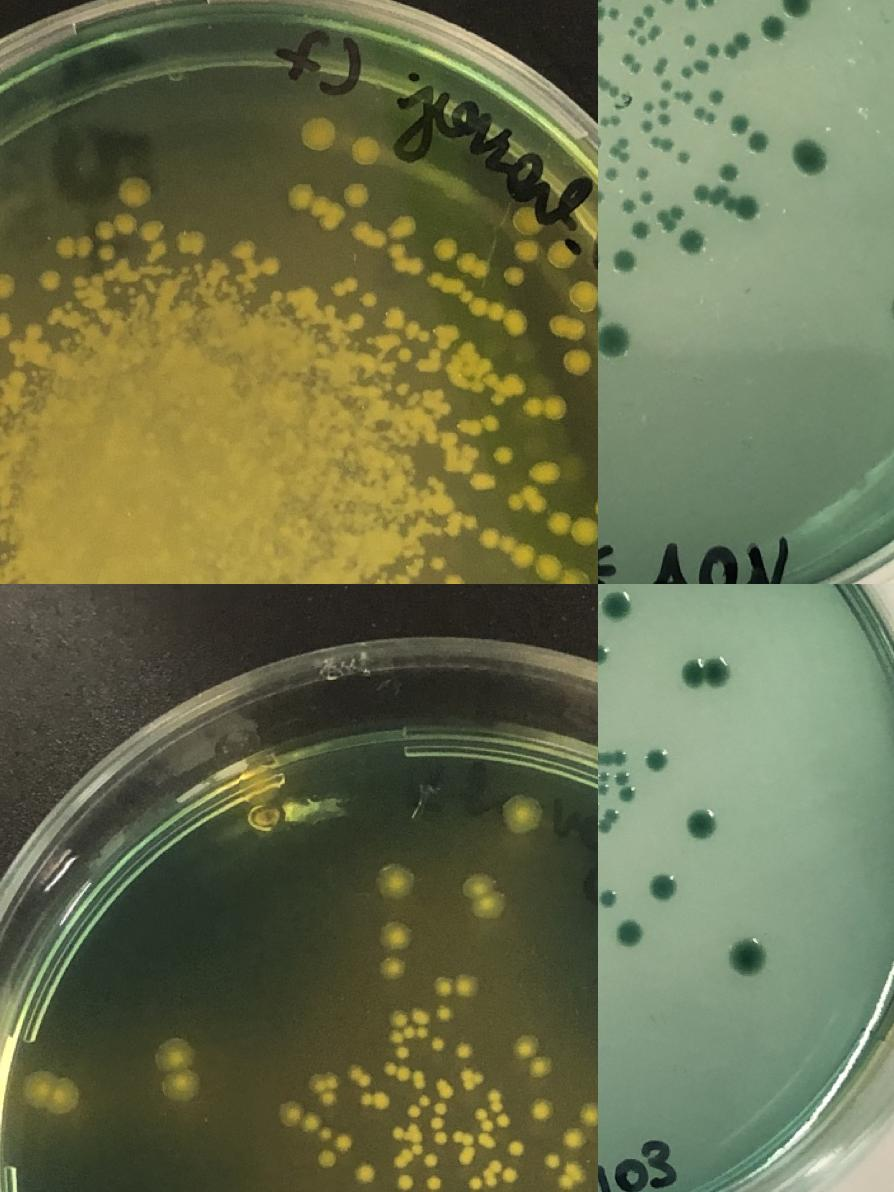pddamselae: (694, 185, 761, 220), (682, 654, 734, 691), (624, 4, 657, 46), (792, 140, 828, 177), (730, 938, 766, 974), (644, 868, 680, 904), (684, 806, 720, 842), (598, 589, 634, 625), (598, 322, 631, 359), (615, 920, 643, 948), (644, 746, 672, 774), (655, 206, 684, 233), (780, 0, 816, 20), (611, 249, 637, 275), (679, 229, 705, 255), (724, 33, 750, 59), (761, 16, 787, 42), (615, 770, 636, 802), (598, 750, 628, 772), (680, 58, 709, 80), (608, 136, 632, 162), (598, 72, 621, 98), (650, 136, 676, 154), (694, 105, 716, 125), (622, 52, 642, 74), (598, 3, 621, 20), (598, 769, 612, 795), (652, 56, 670, 76), (599, 890, 618, 908), (598, 114, 621, 128), (634, 222, 650, 238), (720, 164, 736, 180), (676, 150, 692, 166), (732, 116, 748, 132), (598, 643, 609, 665), (752, 134, 767, 150), (706, 43, 721, 58), (708, 90, 724, 104), (606, 167, 620, 182), (622, 200, 636, 214), (639, 190, 653, 204), (639, 120, 653, 134), (641, 101, 655, 115), (658, 97, 672, 111), (680, 90, 694, 104), (660, 79, 674, 93), (606, 810, 620, 823), (636, 167, 648, 182), (658, 114, 670, 128), (684, 33, 696, 47), (649, 25, 663, 37), (701, 0, 722, 7), (684, 0, 697, 11), (598, 31, 604, 48), (660, 0, 676, 6), (598, 190, 604, 204)
vharveyi: (154, 1036, 202, 1104), (20, 1070, 80, 1116), (512, 1032, 556, 1082), (469, 296, 526, 334), (93, 213, 136, 263), (478, 530, 536, 566), (290, 184, 344, 222), (390, 1008, 430, 1058), (465, 872, 506, 918), (548, 513, 598, 546), (384, 239, 427, 276), (394, 1122, 426, 1168), (469, 1159, 516, 1190), (383, 1062, 425, 1091), (506, 485, 546, 514), (302, 117, 336, 149), (381, 864, 413, 896), (507, 800, 540, 831), (460, 413, 502, 437), (524, 395, 566, 418), (426, 268, 460, 296), (460, 250, 492, 278), (452, 1130, 476, 1166), (352, 221, 383, 248), (556, 1160, 582, 1192), (552, 316, 586, 340), (121, 178, 150, 206), (56, 236, 92, 258), (430, 1102, 448, 1146), (534, 555, 562, 583), (548, 242, 576, 270), (514, 206, 542, 234), (353, 135, 381, 163), (558, 1126, 586, 1154), (528, 1096, 556, 1124), (383, 924, 411, 952), (474, 1108, 494, 1146), (564, 348, 592, 375), (571, 281, 598, 309), (530, 462, 564, 483), (353, 1160, 379, 1186), (278, 1102, 304, 1128), (459, 1068, 485, 1092), (359, 1092, 391, 1110), (349, 1064, 372, 1088), (579, 1099, 598, 1127), (394, 214, 416, 238), (233, 237, 255, 260), (516, 237, 538, 260), (141, 220, 163, 243), (426, 552, 448, 574), (470, 470, 492, 492), (434, 323, 456, 345), (37, 268, 59, 290), (504, 264, 526, 286), (434, 238, 456, 260), (346, 185, 368, 207), (312, 1074, 338, 1092), (493, 444, 515, 465), (487, 1087, 504, 1113), (317, 1149, 337, 1169), (434, 1078, 453, 1098), (560, 571, 588, 584), (544, 1152, 562, 1170), (455, 1042, 473, 1060), (434, 1004, 452, 1022), (433, 978, 451, 996), (456, 978, 474, 996), (384, 960, 402, 978), (396, 1174, 413, 1192), (0, 269, 11, 296), (509, 1142, 523, 1156), (337, 1136, 351, 1150), (319, 1126, 333, 1140), (390, 1124, 404, 1138), (304, 1116, 318, 1130), (406, 1106, 420, 1120), (418, 1092, 432, 1106), (323, 1092, 337, 1106), (431, 1038, 445, 1052), (497, 1113, 510, 1127), (428, 1176, 440, 1190), (426, 1153, 438, 1167), (443, 578, 465, 584)
